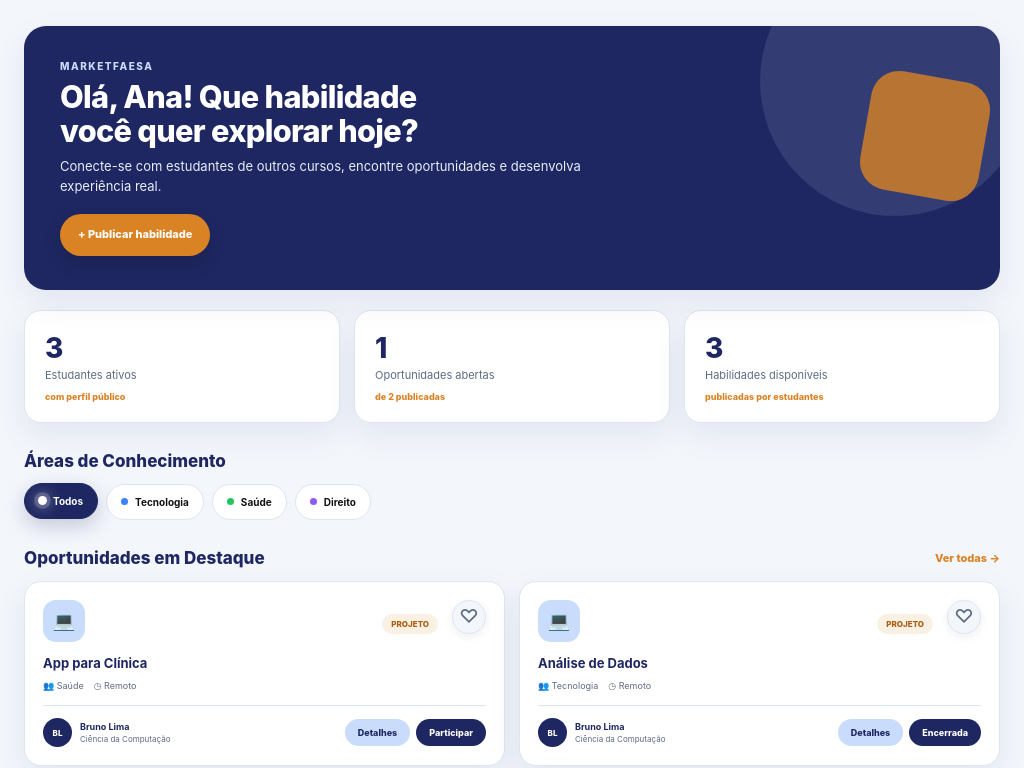
Test: Página inicial › participa pelo modal de detalhes
Expected: the heading "App para Clínica" is shown, [43,655,147,671]
Click the button with aria-label "Ver detalhes de App para Clínica".
click(64, 621)  # box [43,600,486,691]
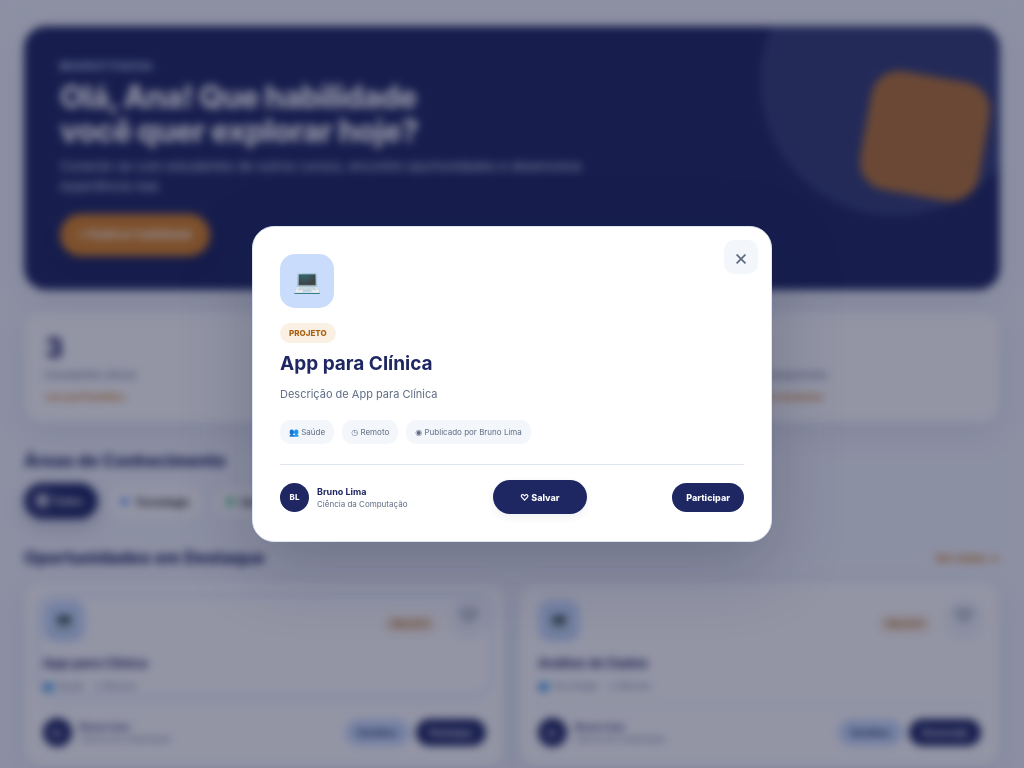
Click the button "Participar".
click(708, 497)  # box [672,483,744,512]
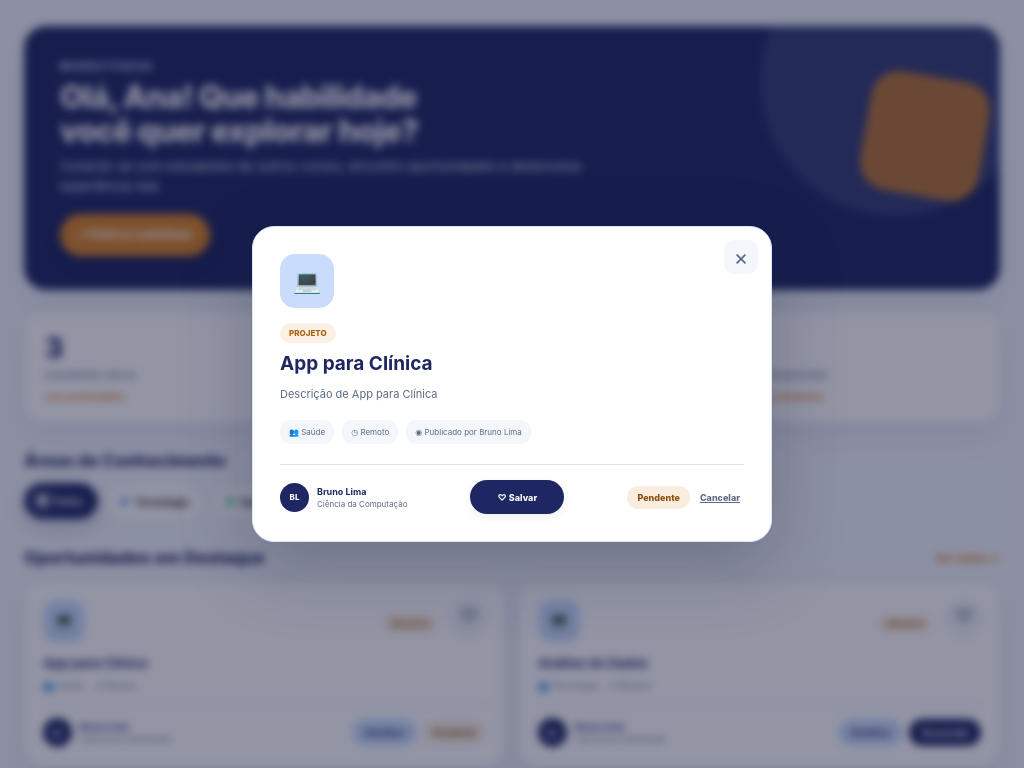
Result: the text "Pendente" is shown at [627,486,690,509]
Result: the button with aria-label "Cancelar participação em App para Clínica" is shown at [696,486,744,509]
Result: the text "Pendente" below "Oportunidades em Destaque" is shown at [434,727,476,738]
